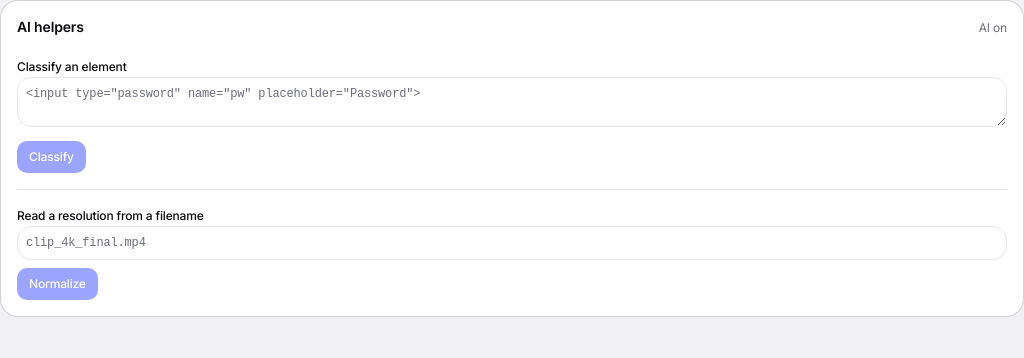
AiHelpersPanel wires the two pure ai helpers › says 'no match' out loud when ok:true carries resolution:null
Expected: the text "AI on" is shown, [979,20,1007,36]
Type "mystery_clip.mp4" into the field labelled "Read a resolution from a filename" at (512, 243), box [17,226,1007,260]
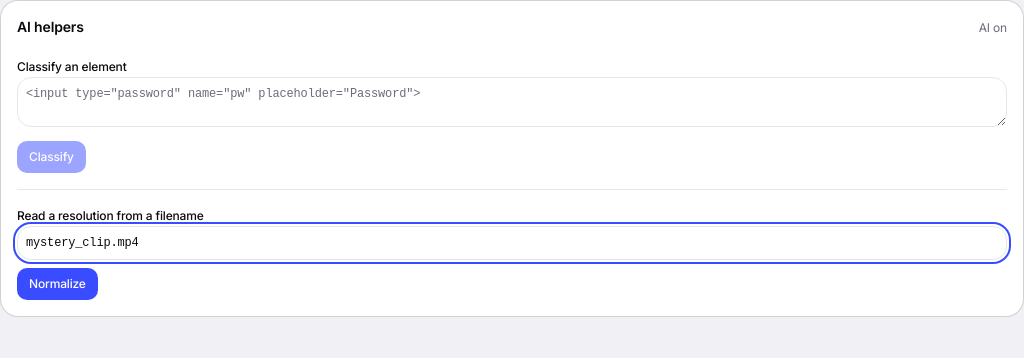
Click the button "Normalize" at (57, 284), box [17,268,98,300]
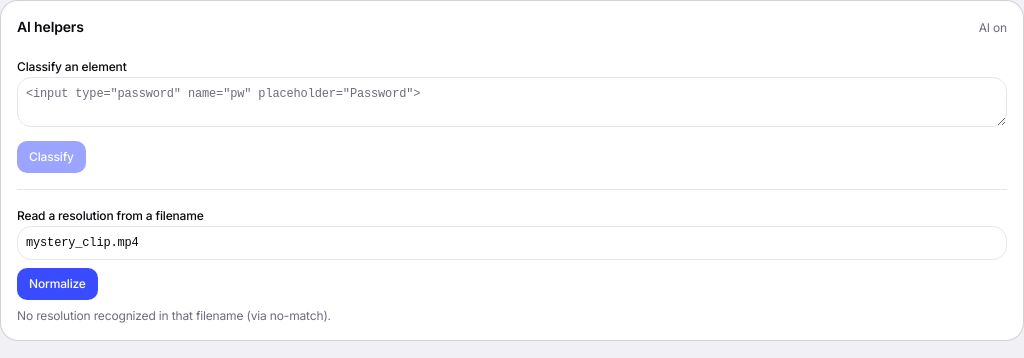
Expected: the element with test id "normalize-result" shows "No resolution recognized", [17,308,267,323]
Expected: the element with test id "normalize-result" shows "no-match", [270,308,323,323]
